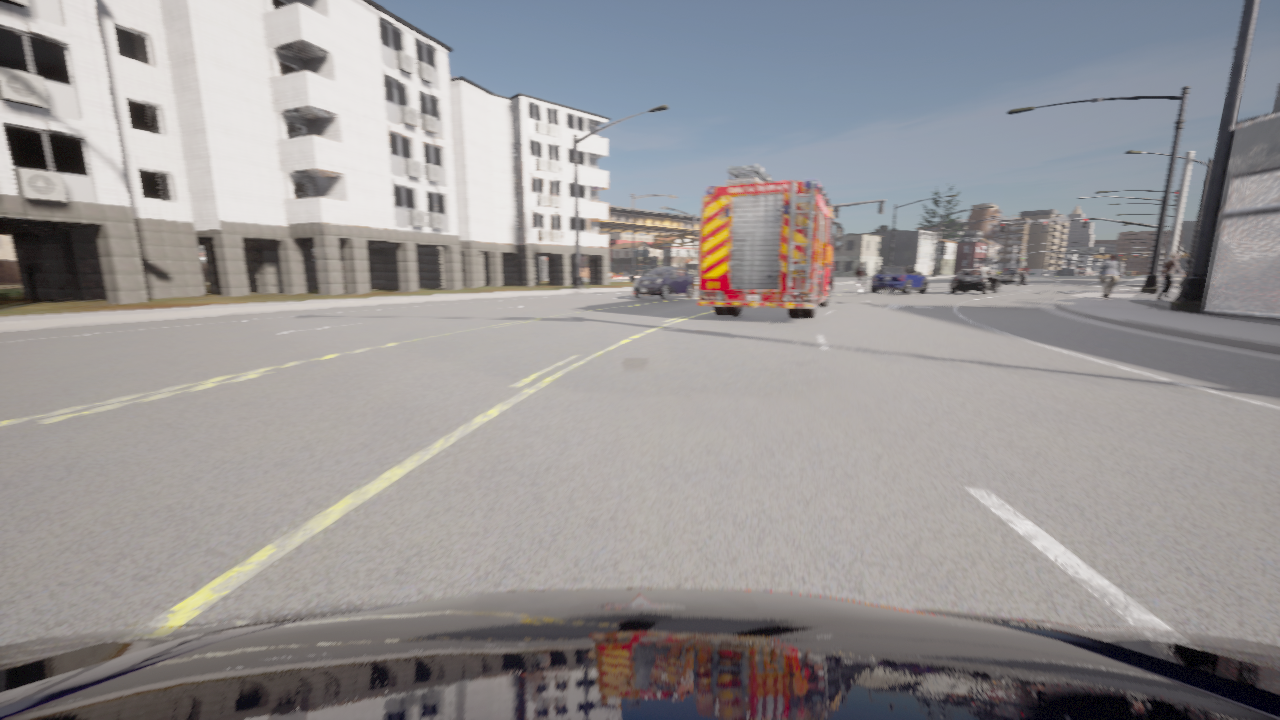cyclist: (0, 588, 1279, 719), (699, 164, 843, 318), (634, 267, 694, 299), (870, 265, 927, 293), (950, 269, 999, 294), (999, 270, 1026, 284), (855, 281, 867, 296), (609, 272, 618, 277), (620, 272, 629, 277)
pedestrian: (1156, 253, 1184, 299), (1100, 254, 1121, 298)
